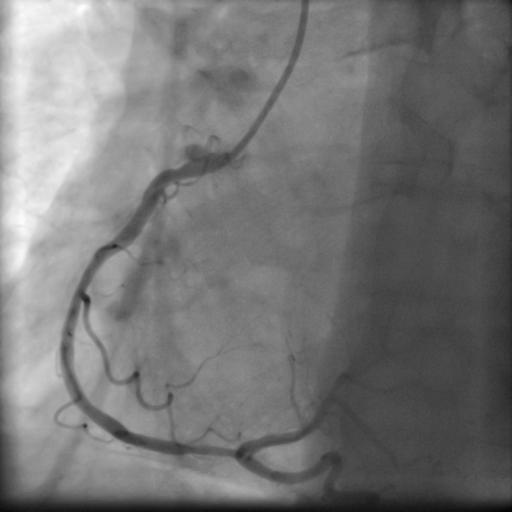Stenosis: (181, 437, 241, 466)
